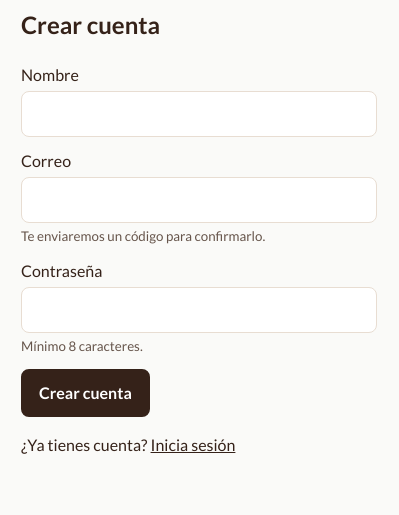
Test: RegistroPage › rechaza un nombre vacío o solo con espacios ()
Type "ana@ejemplo.com" into the field labelled "Correo" at (199, 200), box [21,177,377,223]
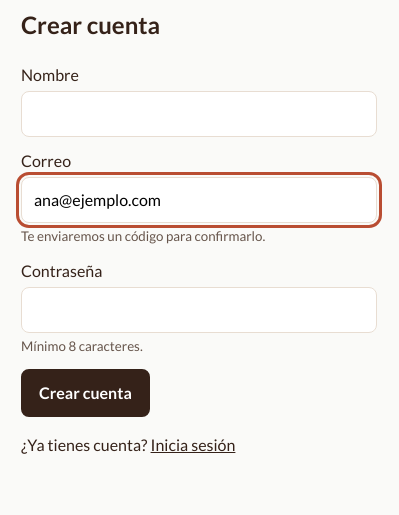
Type "clave12345" into the password field labelled "Contraseña" at (199, 310), box [21,287,377,333]
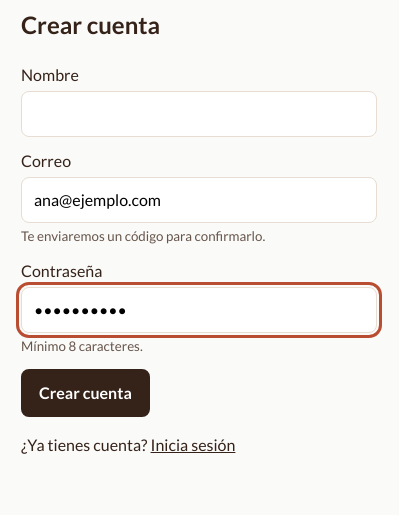
Click the button "Crear cuenta" at (85, 393), box [21,369,150,417]
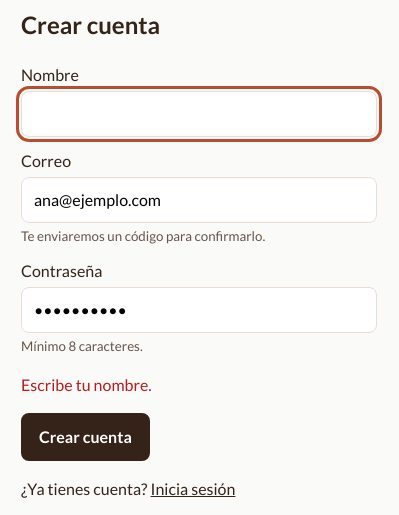
Check: the message reads "Escribe tu nombre.", box [21,375,152,394]
